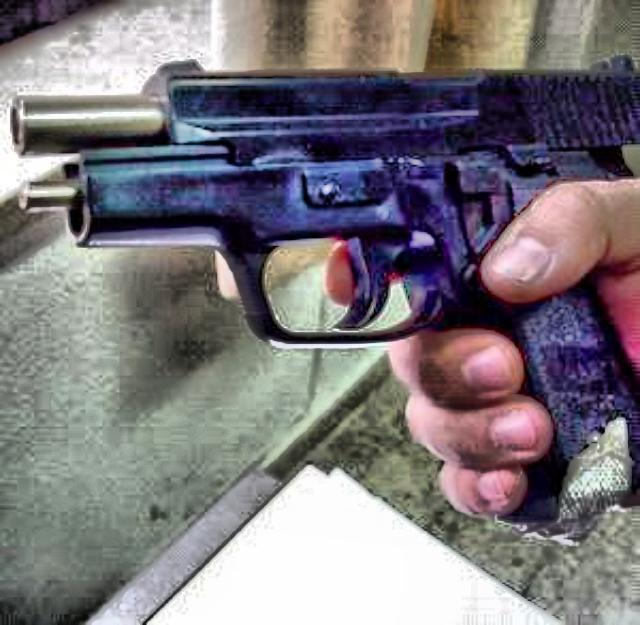pistol: (7, 60, 638, 520)
